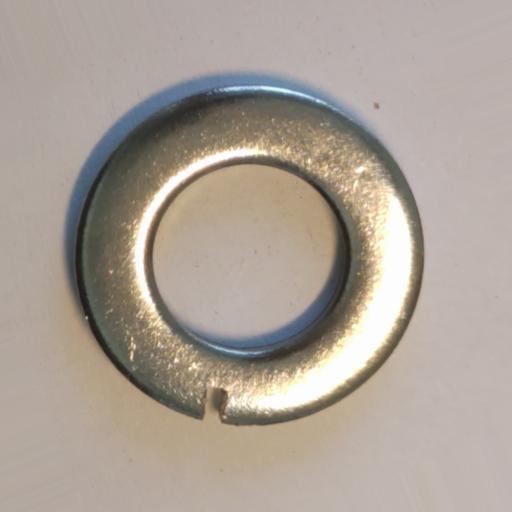burr: (203, 385, 229, 421)
